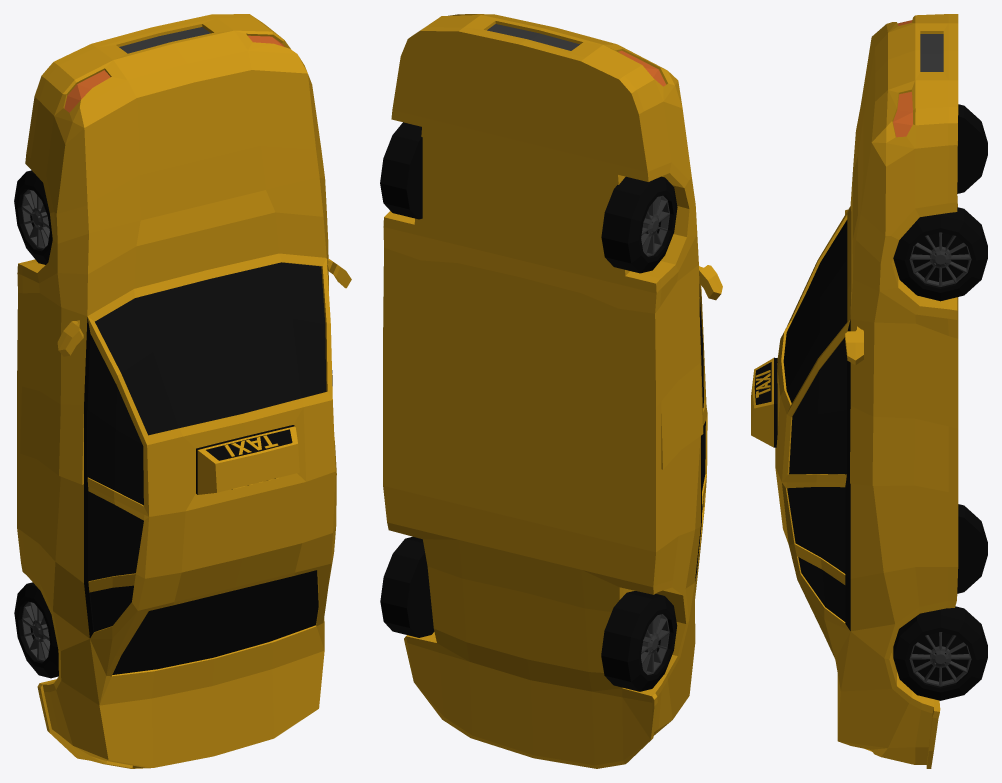
The model's file is Taxi.glb.
3 renders of one model, left to right at view 1: azimuth 30°, elevation 25°; view 2: azimuth 150°, elevation 25°; view 3: azimuth 270°, elevation 25°, orthographic. The views are drawn at different scales.
Parts seen in each view (by area): view 1: Taxi, Taxi_BackWheels, Taxi_FrontLeftWheel; view 2: Taxi, Taxi_BackWheels, Taxi_FrontLeftWheel, Taxi_FrontRightWheel; view 3: Taxi, Taxi_BackWheels, Taxi_FrontRightWheel, Taxi_FrontLeftWheel.
Boxes of the visible parts, box(x1,y1,x2,y2) form: Taxi: box(17, 14, 351, 768); Taxi_BackWheels: box(14, 582, 58, 678); Taxi_FrontLeftWheel: box(14, 170, 52, 264); Taxi: box(383, 14, 722, 768); Taxi_BackWheels: box(380, 536, 677, 691); Taxi_FrontLeftWheel: box(601, 176, 677, 273); Taxi_FrontRightWheel: box(380, 122, 422, 219); Taxi: box(751, 14, 958, 768); Taxi_BackWheels: box(893, 504, 987, 700); Taxi_FrontRightWheel: box(893, 207, 987, 301); Taxi_FrontLeftWheel: box(957, 104, 987, 193).
Bounding box in the file's own units: 181 × 422 × 131.
